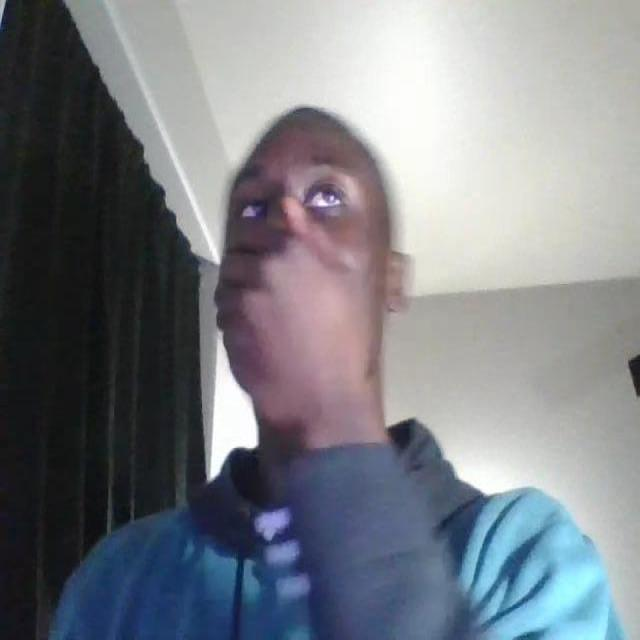no-helmet: (225, 137, 387, 383)
